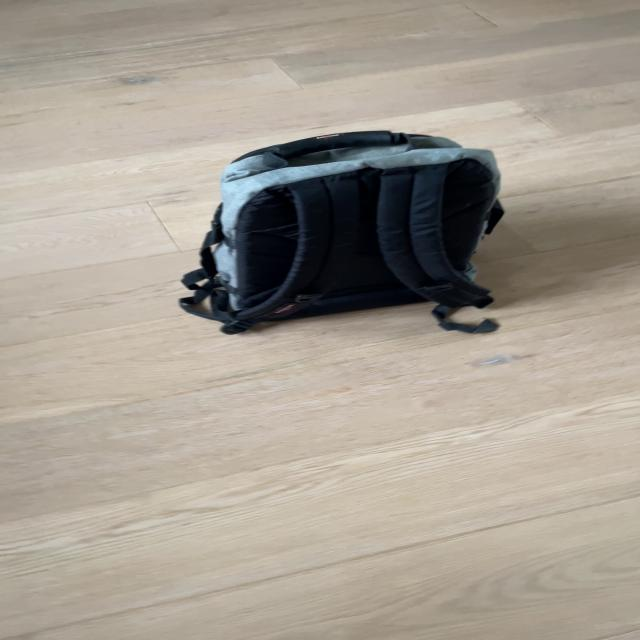backpack: (168, 121, 522, 337)
